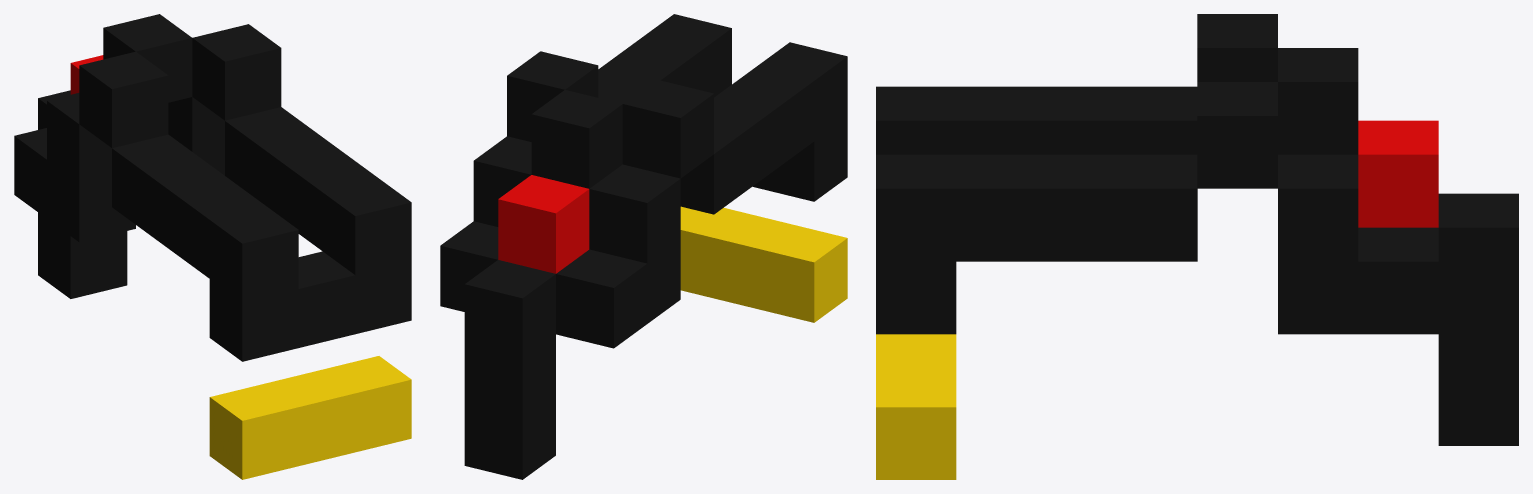
The model's file is shoes.obj.
3 views of the same model, side by side, from view 1: azimuth 30°, elevation 25°; view 2: azimuth 150°, elevation 25°; view 3: azimuth 270°, elevation 25° (orthographic). The views are drawn at different scales.
Size of the model in its own units: 0.3 by 0.5 by 0.8.
Materials: 1 (1 with a texture image).
